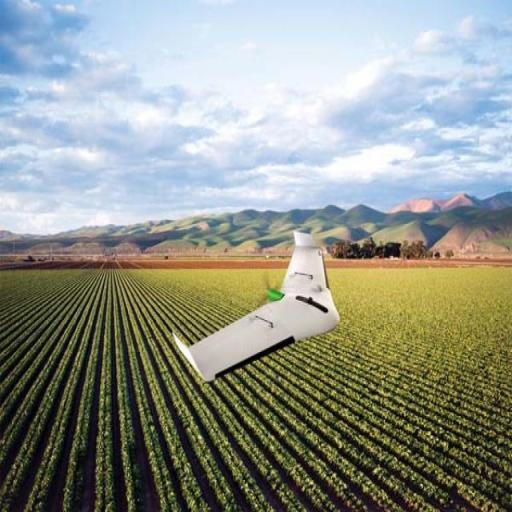uav: (171, 222, 343, 396)
